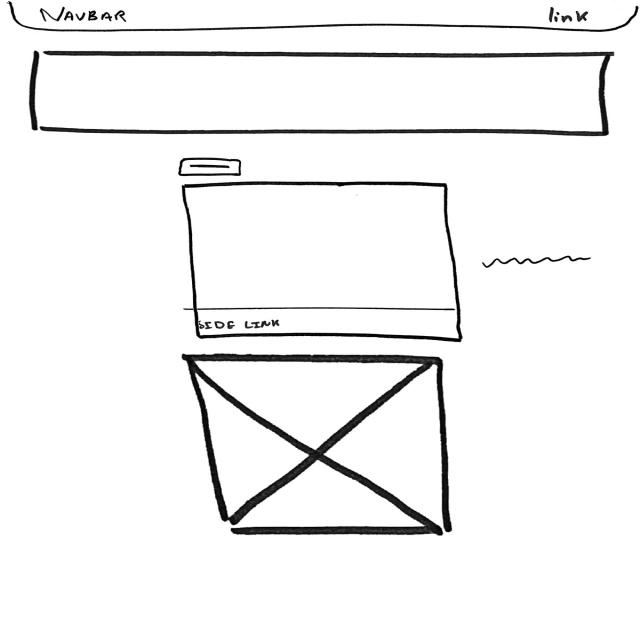container: (26, 47, 616, 137), (181, 183, 465, 345), (8, 1, 640, 33)
icon-button: (179, 155, 245, 178)
image: (182, 351, 453, 536)
label: (40, 6, 129, 27), (197, 318, 283, 332), (546, 5, 594, 25)
text: (483, 255, 595, 270)
